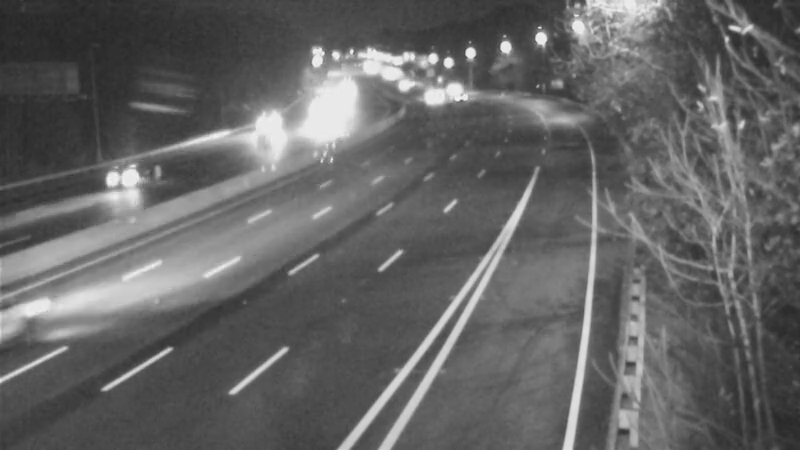vehicle: (1, 272, 89, 382), (88, 127, 168, 207), (434, 63, 484, 113), (410, 72, 460, 122), (232, 114, 282, 164)
